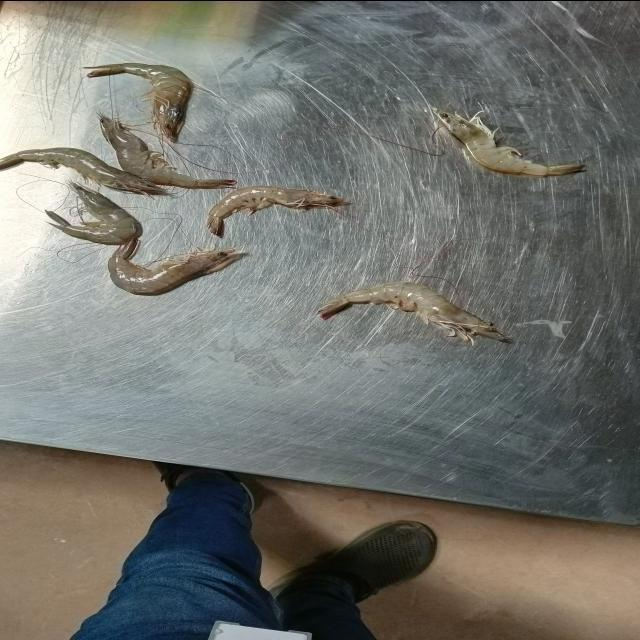shrimp: (319, 281, 511, 342), (100, 114, 237, 188), (436, 109, 582, 176), (84, 62, 193, 141), (0, 146, 170, 195), (108, 238, 243, 295), (208, 185, 350, 236), (46, 181, 142, 244)
